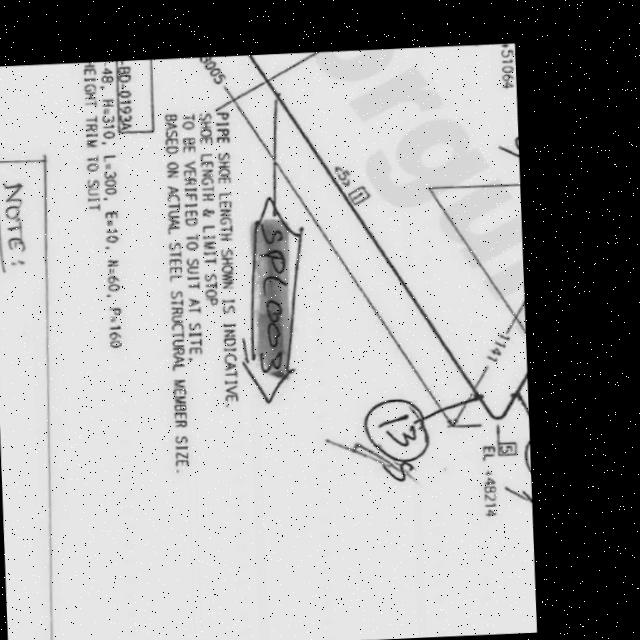Item number: (114, 60, 158, 135), (347, 183, 374, 208), (496, 440, 521, 457)
Measrement: (480, 307, 524, 384)
Pipeline: (255, 57, 518, 419)
Weld number: (357, 393, 437, 469)
other: (158, 108, 248, 477), (84, 62, 129, 354), (479, 443, 502, 520)
